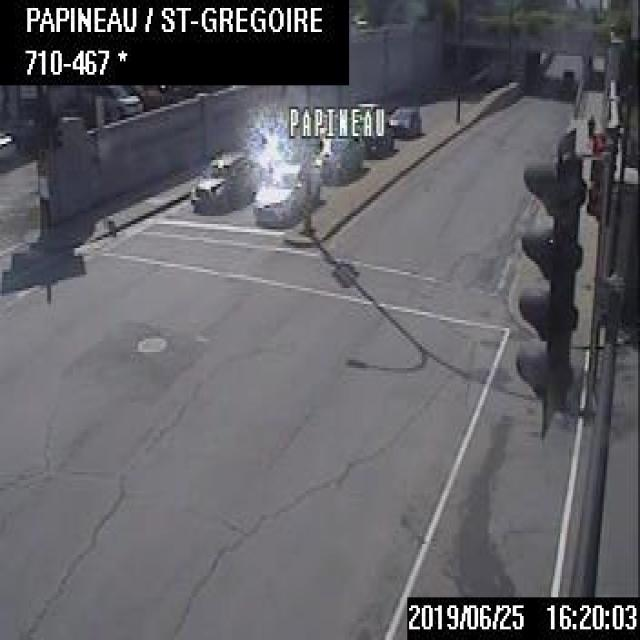vehicle: (251, 150, 319, 221), (189, 144, 249, 208), (314, 132, 363, 183), (92, 82, 142, 120), (385, 100, 423, 140), (358, 115, 392, 156)
